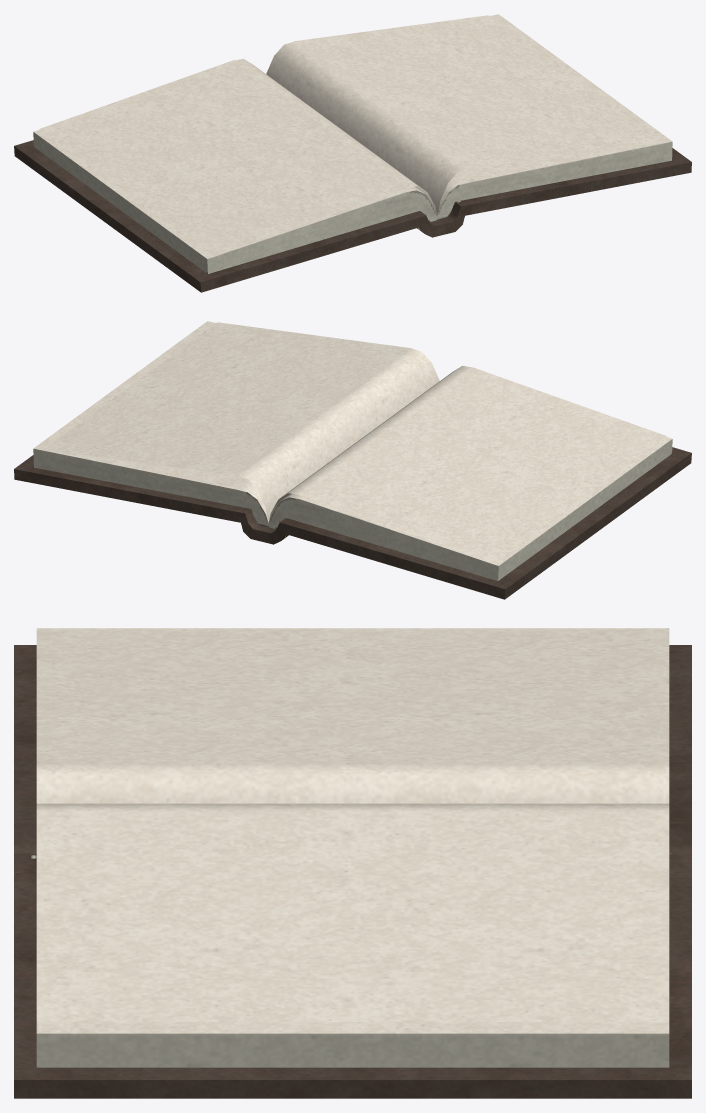
The model's file is Book03.fbx.
3 views of the same model, one above another, from view 1: azimuth 30°, elevation 25°; view 2: azimuth 150°, elevation 25°; view 3: azimuth 270°, elevation 25° (orthographic). The views are drawn at different scales.
Parts seen in each view (by area): view 1: prop_book_04_inst_001; view 2: prop_book_04_inst_001; view 3: prop_book_04_inst_001.
Part boxes in pixels (<box>): prop_book_04_inst_001: <box>14,14,691,292</box>; prop_book_04_inst_001: <box>14,321,691,599</box>; prop_book_04_inst_001: <box>14,628,691,1098</box>.
Size of the model in its own units: 63.63 by 6.69 by 41.83.
1 material, 1 textured.
